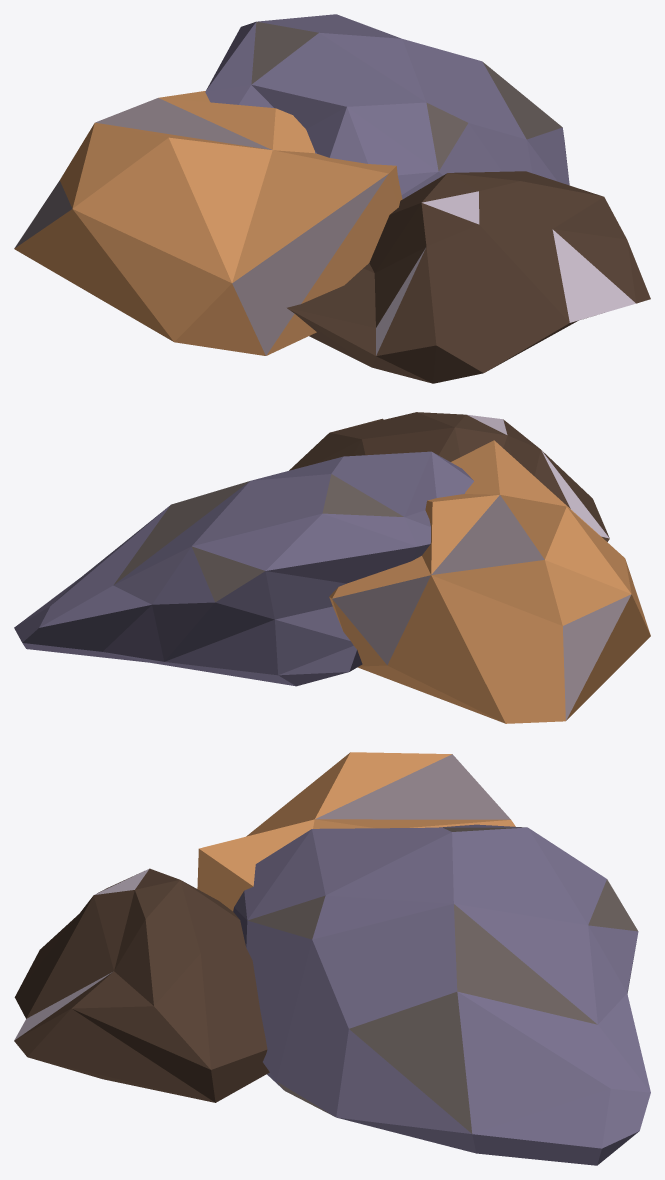
The model's file is Natural_B.fbx.
3 views of the same model, one above another, from view 1: azimuth 30°, elevation 25°; view 2: azimuth 150°, elevation 25°; view 3: azimuth 270°, elevation 25° (orthographic). The views are drawn at different scales.
Visible parts, largest first — view 1: Cube.001, Cube.002, Cube; view 2: Cube, Cube.001, Cube.002; view 3: Cube, Cube.002, Cube.001.
Boxes of the visible parts, <box> form: Cube.001: <box>14,91,402,355</box>; Cube.002: <box>287,171,650,383</box>; Cube: <box>205,14,569,198</box>; Cube: <box>14,451,473,686</box>; Cube.001: <box>329,440,650,723</box>; Cube.002: <box>289,412,609,541</box>; Cube: <box>233,824,650,1165</box>; Cube.002: <box>14,868,269,1102</box>; Cube.001: <box>197,752,515,911</box>.
Bounding box in the file's own units: 1.86 × 0.6981 × 1.8.
